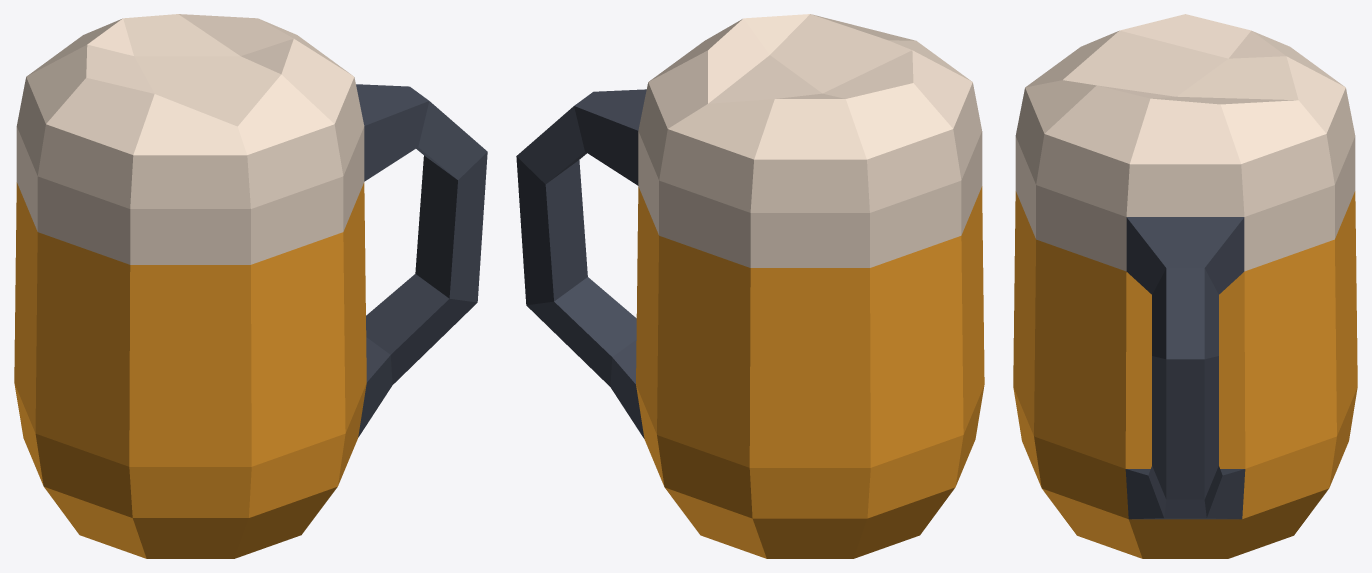
Rendered from beer.fbx.
The picture shows the model from 3 angles, left to right: view 1: azimuth 30°, elevation 25°; view 2: azimuth 150°, elevation 25°; view 3: azimuth 270°, elevation 25°; orthographic projection. The views are drawn at different scales.
Visible parts, largest first — view 1: beer; view 2: beer; view 3: beer.
Boxes of the visible parts, x1,y1,x2,y2 form: beer: (14, 14, 487, 558); beer: (516, 14, 984, 558); beer: (1013, 14, 1357, 558).
Bounding box in the file's own units: 0.2388 × 0.2382 × 0.1648.
